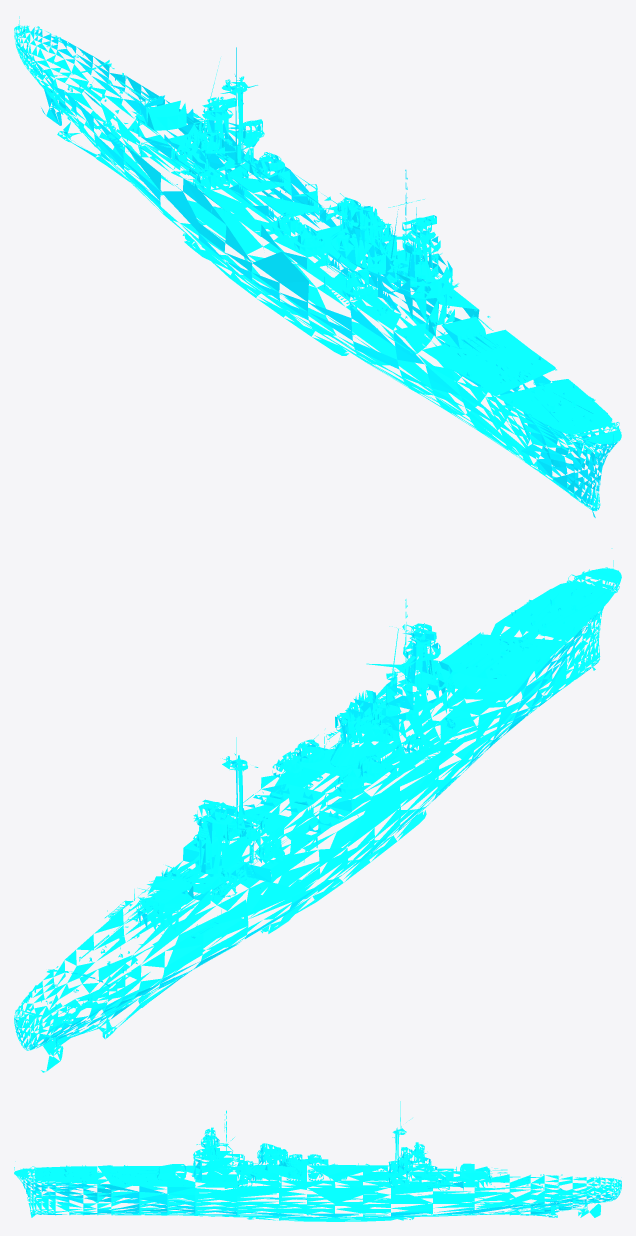
File: Olympian_Francesco_Ferruccio.glb
3 views of the same model, one above another, from view 1: azimuth 30°, elevation 25°; view 2: azimuth 150°, elevation 25°; view 3: azimuth 270°, elevation 25° (orthographic). The views are drawn at different scales.
Bounding box in the file's own units: 1.25 × 2.66 × 12.52.
